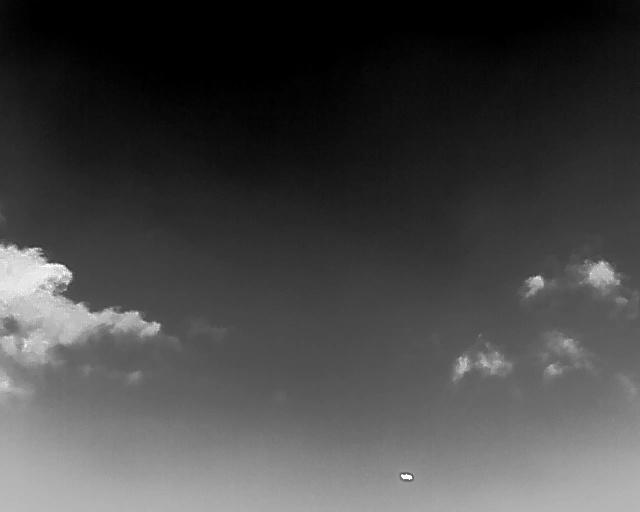fpv-drone: (399, 472, 413, 481)
